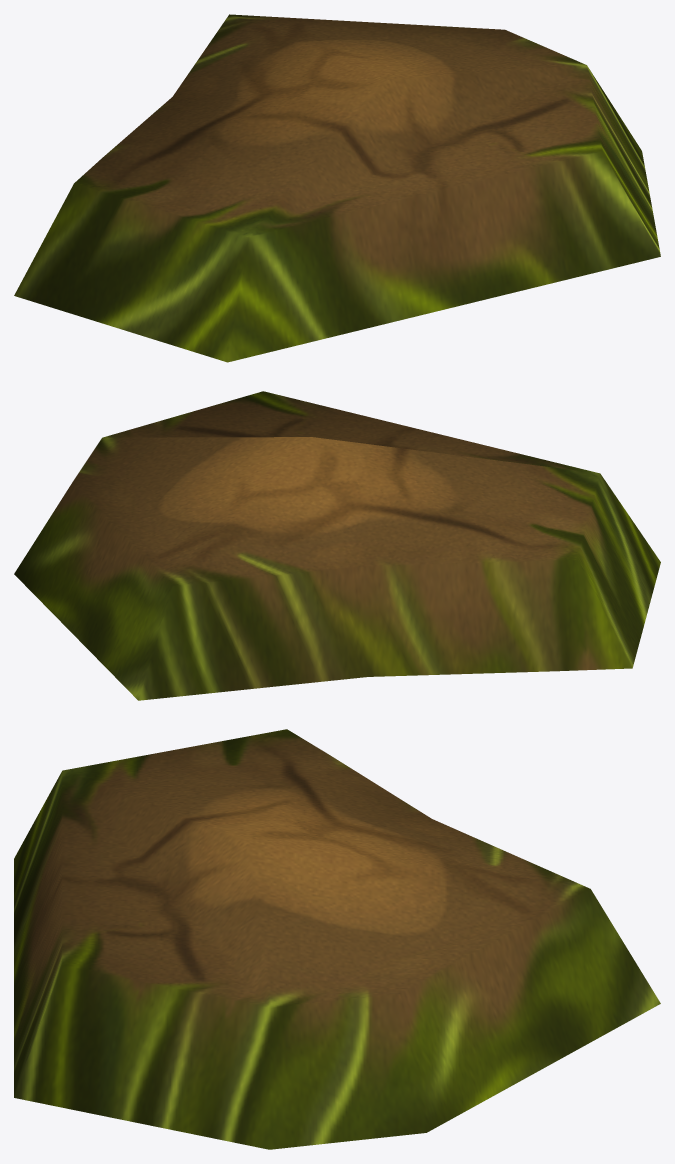
Rendered from SteppingStone4.fbx.
3 views of the same model, one above another, from view 1: azimuth 30°, elevation 25°; view 2: azimuth 150°, elevation 25°; view 3: azimuth 270°, elevation 25° (orthographic). The views are drawn at different scales.
Visible parts, largest first — view 1: Mesh; view 2: Mesh; view 3: Mesh.
Part boxes in pixels (x1,y1,x2,y2): Mesh: (14,14,660,362); Mesh: (14,391,660,700); Mesh: (14,729,660,1149).
Bounding box in the file's own units: 72.34 × 15.95 × 57.89.
